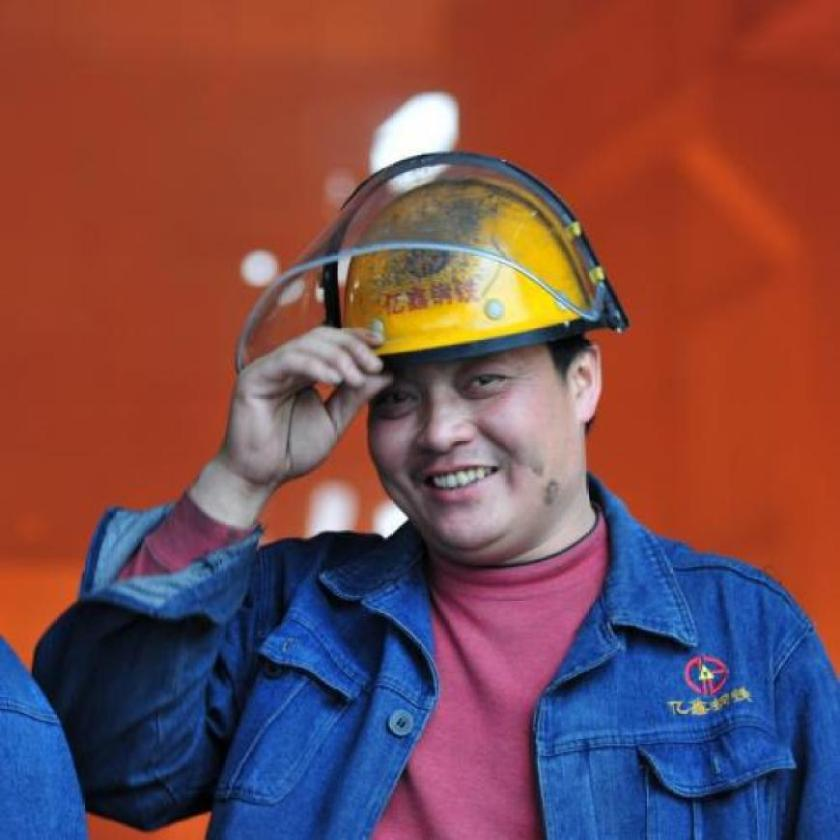Con_casco: (288, 141, 636, 557)
